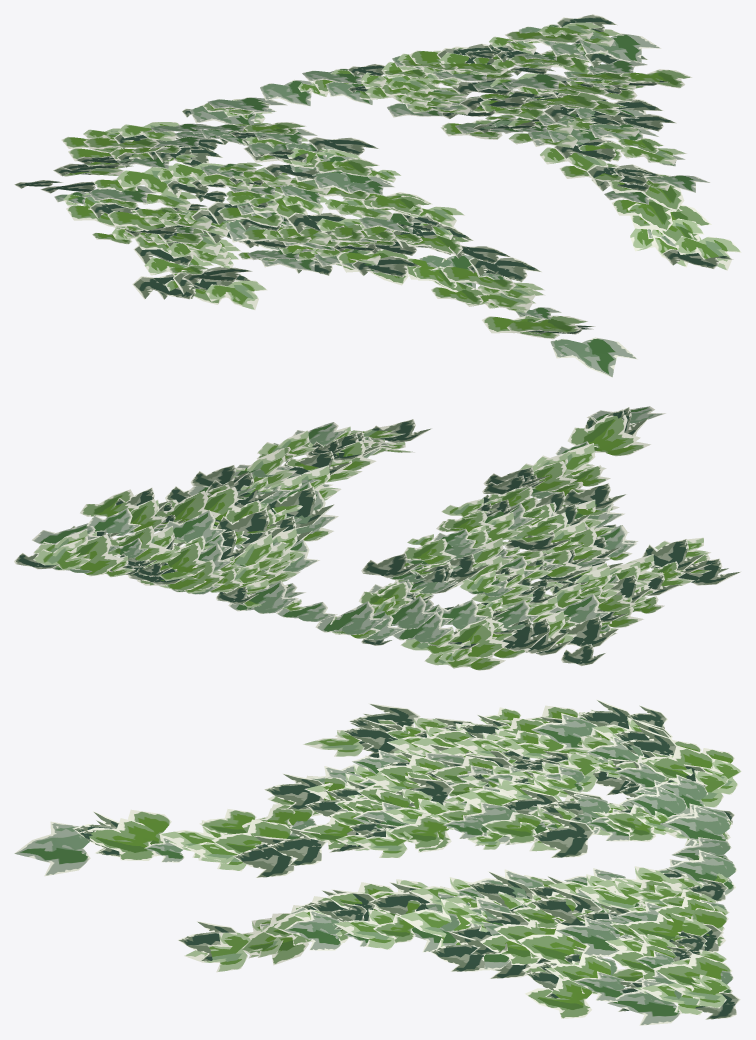
The model's file is Scatter.fbx.
3 views of the same model, one above another, from view 1: azimuth 30°, elevation 25°; view 2: azimuth 150°, elevation 25°; view 3: azimuth 270°, elevation 25° (orthographic). The views are drawn at different scales.
Parts seen in each view (by area): view 1: Plane.010; view 2: Plane.010; view 3: Plane.010.
Part boxes in pixels (<box>): Plane.010: <box>14,14,741,377</box>; Plane.010: <box>14,406,741,670</box>; Plane.010: <box>14,699,741,1025</box>.
Size of the model in its own units: 345 by 25.76 by 341.
